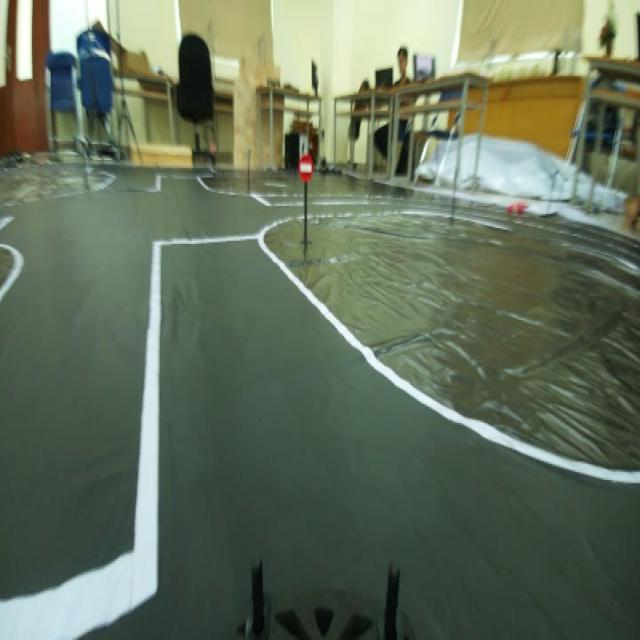no_entry: (292, 146, 318, 191)
